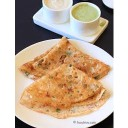dosa: (18, 59, 111, 115), (19, 36, 110, 80)
